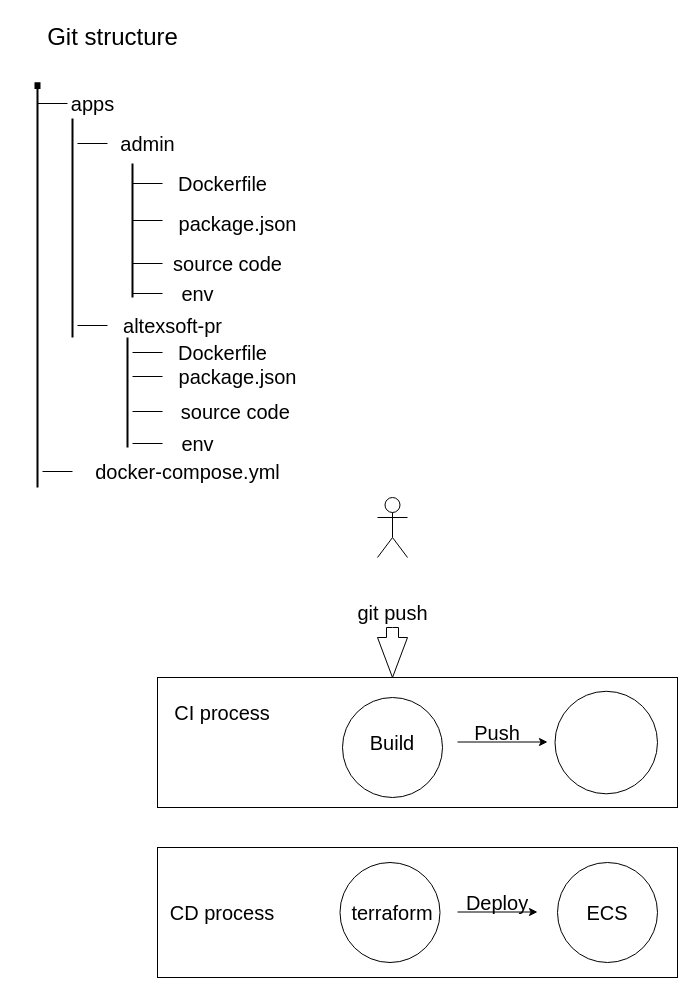
This 695x995 diagram has some shape labels left out. Here are the shapes that lost their labels. From the top down, the centre of each, then its label:
At (x=392, y=527): "Actor".
At (x=606, y=742): "ECR".
